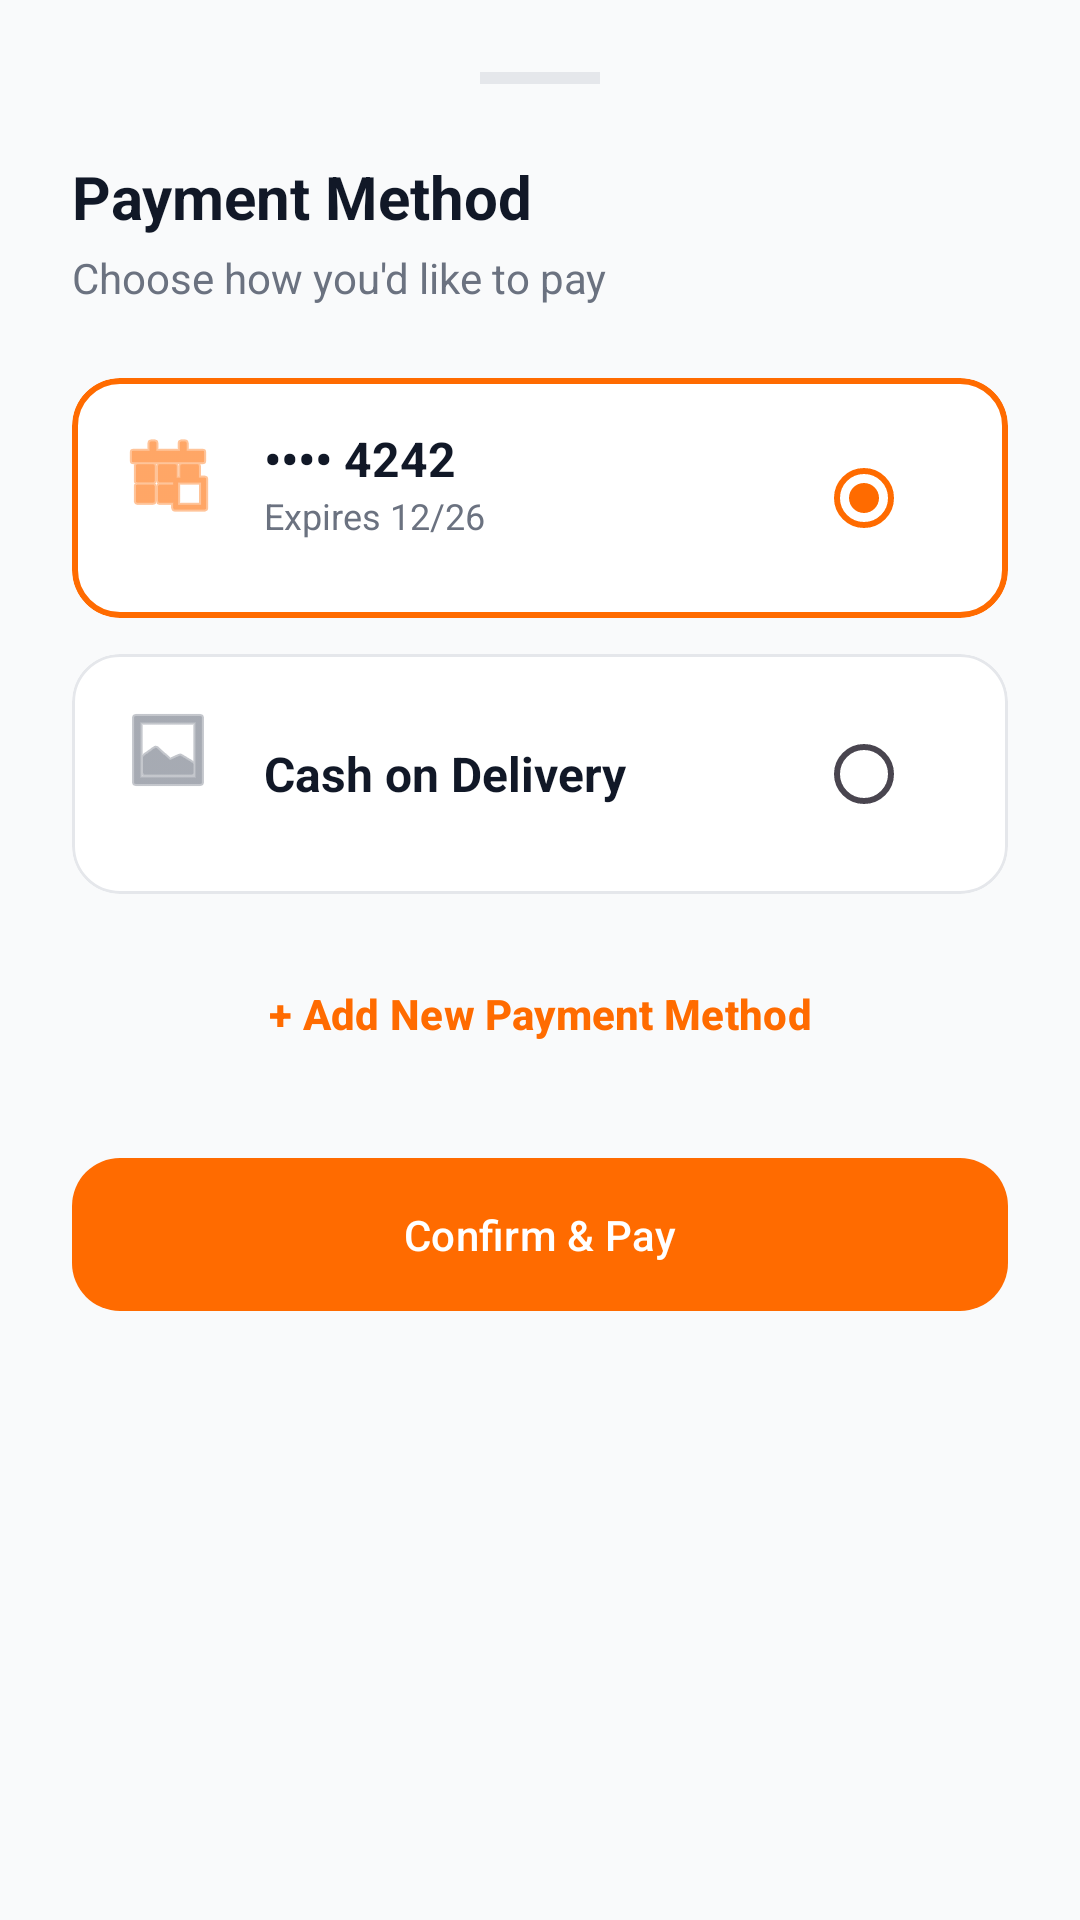

Named icons in this screenshot (1080w x 1920h) and their bounding boxes, (x1, y1, x2, y2):
gallery: (132, 714, 204, 786)
today: (130, 439, 208, 512)
